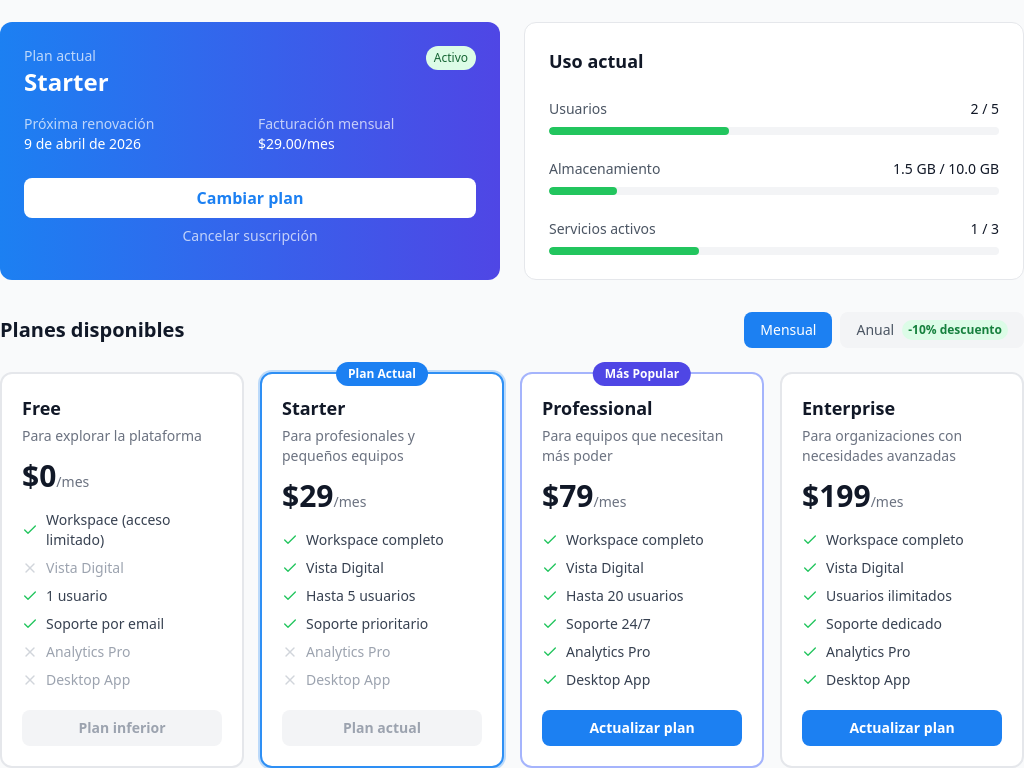
Scenario: SubscriptionPage › abre el modal de upgrade al hacer clic en Actualizar plan
The width and height of the screenshot is (1024, 768).
(page scrolled)
Note: Professional plan upgrade button
Step 1. Click the button "Actualizar plan" below "Soporte 24/7" → (642, 728), box x1=542 y1=710 x2=742 y2=746
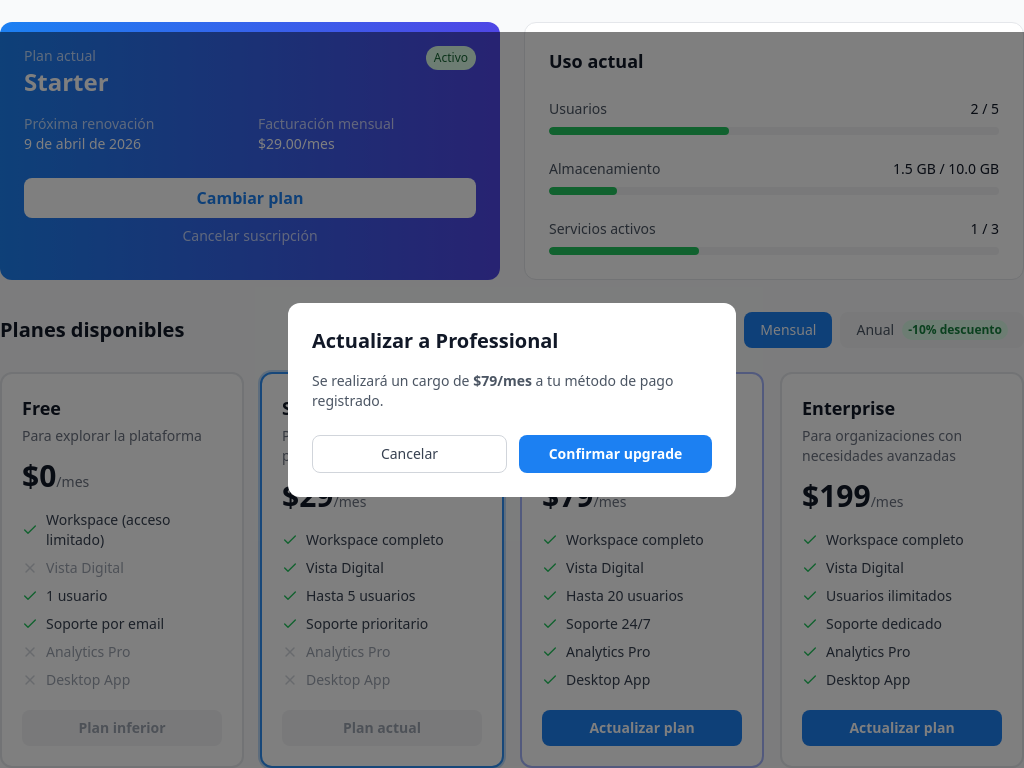
Expected: the dialog is shown, x1=288 y1=303 x2=736 y2=497
Expected: the heading "Actualizar a Professional" is shown, x1=312 y1=327 x2=558 y2=354
